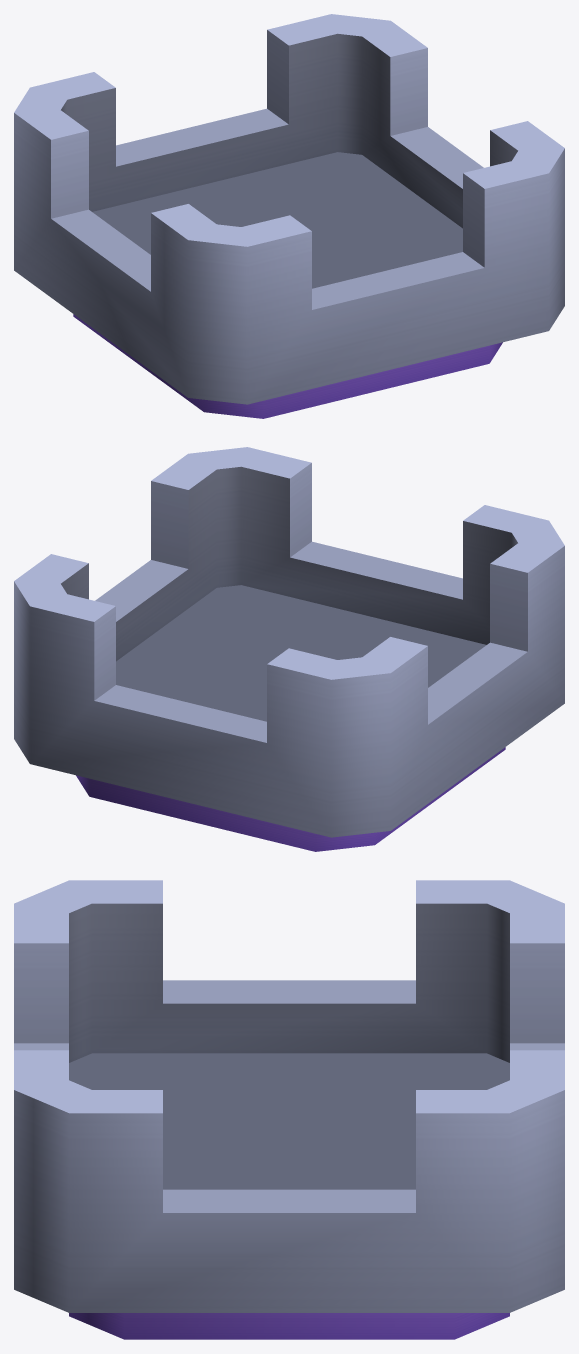
File: tower-square-middle-c.fbx
The picture shows the model from 3 angles, top to bottom: view 1: azimuth 30°, elevation 25°; view 2: azimuth 150°, elevation 25°; view 3: azimuth 270°, elevation 25°; orthographic projection. The views are drawn at different scales.
Parts seen in each view (by area): view 1: tower-square-middle-c; view 2: tower-square-middle-c; view 3: tower-square-middle-c.
Boxes of the visible parts, x1,y1,x2,y2 form: tower-square-middle-c: (14,14,564,418); tower-square-middle-c: (14,447,564,851); tower-square-middle-c: (14,880,564,1339).
Bounding box in the file's own units: 100 × 50 × 100.
